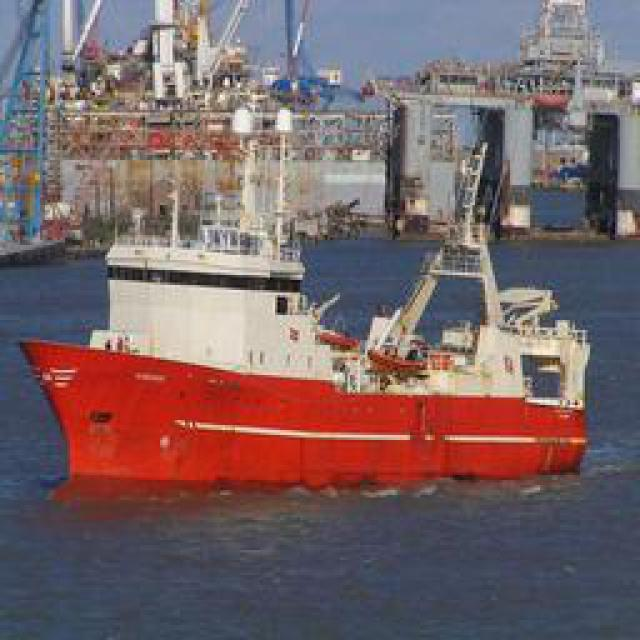Ship: (34, 55, 584, 490)
